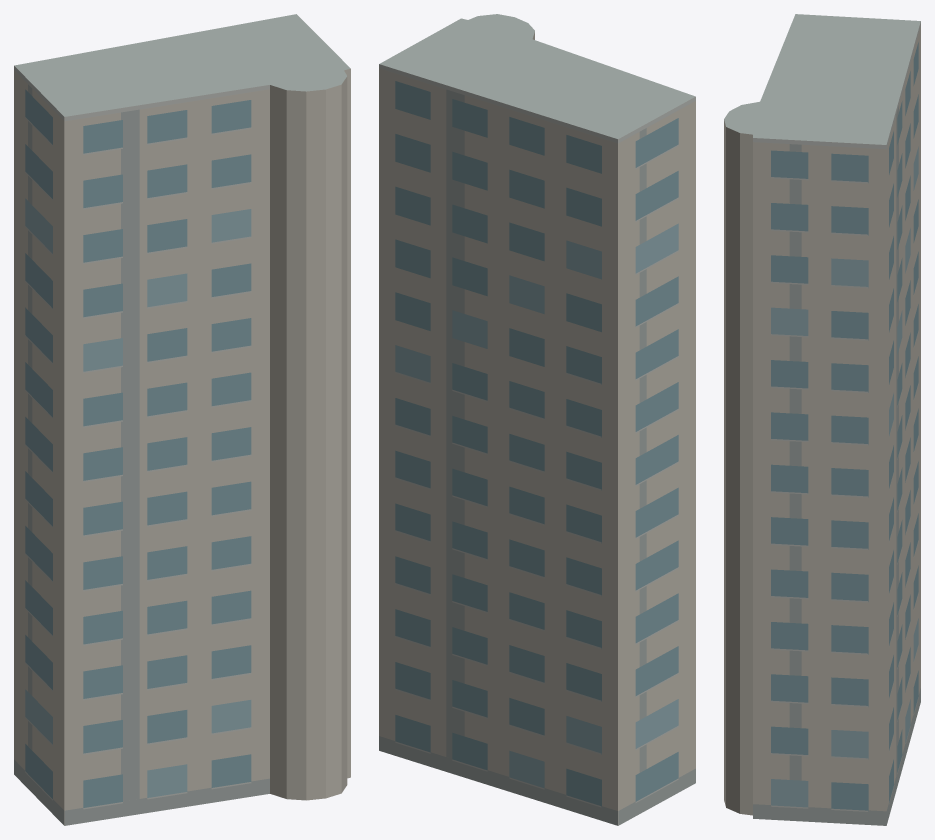
File: survey-upis-32940405.glb
3 renders of one model, left to right at view 1: azimuth 30°, elevation 25°; view 2: azimuth 150°, elevation 25°; view 3: azimuth 270°, elevation 25°, orthographic. The views are drawn at different scales.
Parts seen in each view (by area): view 1: survey-upis-32940405.tmp; view 2: survey-upis-32940405.tmp; view 3: survey-upis-32940405.tmp.
Part boxes in pixels (<box>): survey-upis-32940405.tmp: <box>14,14,350,825</box>; survey-upis-32940405.tmp: <box>379,14,695,825</box>; survey-upis-32940405.tmp: <box>724,14,920,825</box>.
Bounding box in the file's own units: 16.38 × 39.65 × 10.4.
